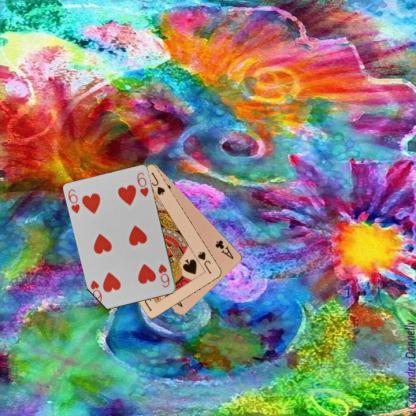6h: (66, 187, 81, 215), (156, 262, 171, 289)
Ac: (213, 238, 235, 260)
Js: (195, 249, 213, 276)
